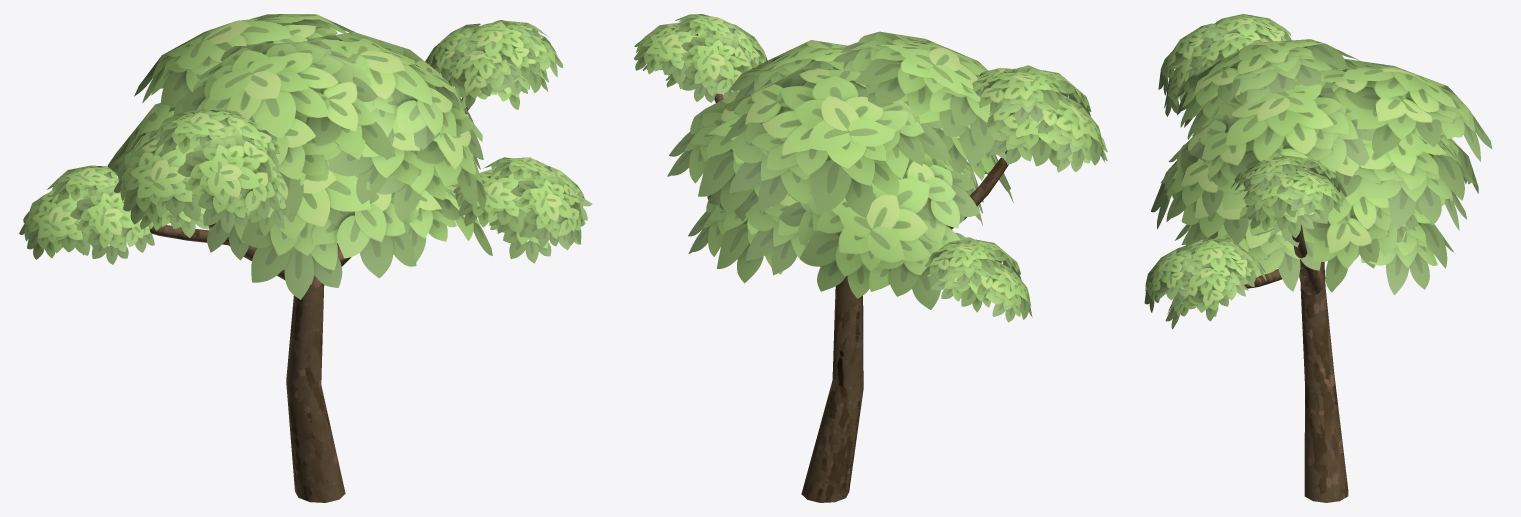
File: Tree_5.gltf
3 views of the same model, side by side, from view 1: azimuth 30°, elevation 25°; view 2: azimuth 150°, elevation 25°; view 3: azimuth 270°, elevation 25° (orthographic). The views are drawn at different scales.
Visible parts, largest first — view 1: Tree_5; view 2: Tree_5; view 3: Tree_5.
Boxes of the visible parts, <box> form: Tree_5: <box>19,14,592,502</box>; Tree_5: <box>634,14,1107,502</box>; Tree_5: <box>1144,14,1492,502</box>.
Bounding box in the file's own units: 6.74 × 6.36 × 4.98.
2 materials, 2 textured.
